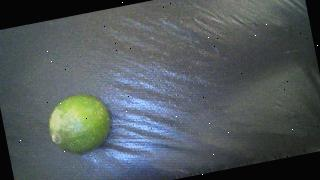DESECHO: (44, 89, 116, 158)
